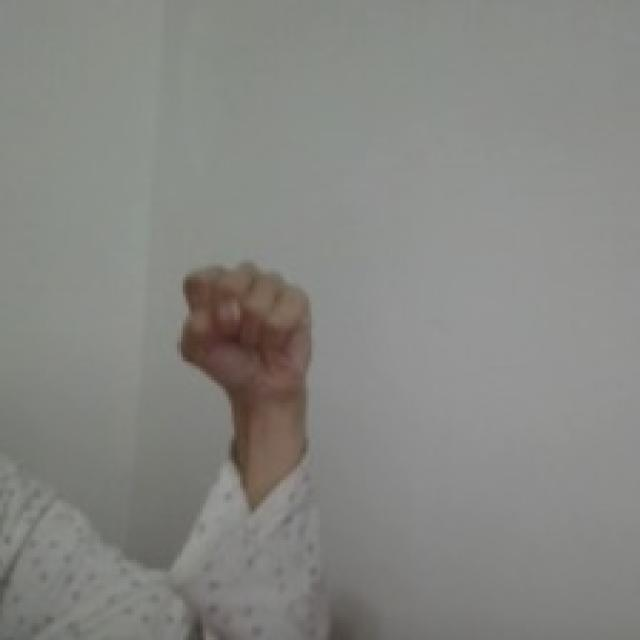yes: (174, 256, 319, 400)
